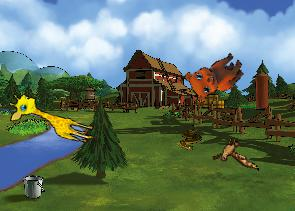bear: (179, 40, 249, 109)
eagle: (210, 135, 259, 174)
giraffe: (4, 90, 99, 145)
